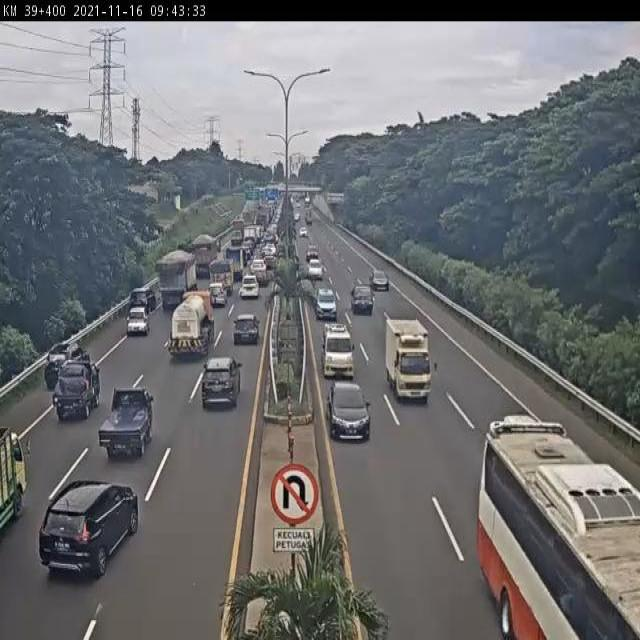big bus: (478, 416, 640, 640)
car: (38, 478, 140, 578), (99, 385, 155, 456), (52, 360, 103, 421), (327, 381, 370, 443), (43, 339, 89, 389), (202, 358, 242, 410), (321, 325, 353, 379), (231, 315, 261, 349), (351, 283, 374, 316), (126, 308, 152, 337), (317, 287, 339, 320), (129, 287, 158, 312), (240, 274, 262, 302), (208, 281, 229, 308), (371, 268, 389, 292)
small truck: (384, 317, 439, 408)
truck-m-: (164, 291, 217, 368), (154, 251, 197, 320)
